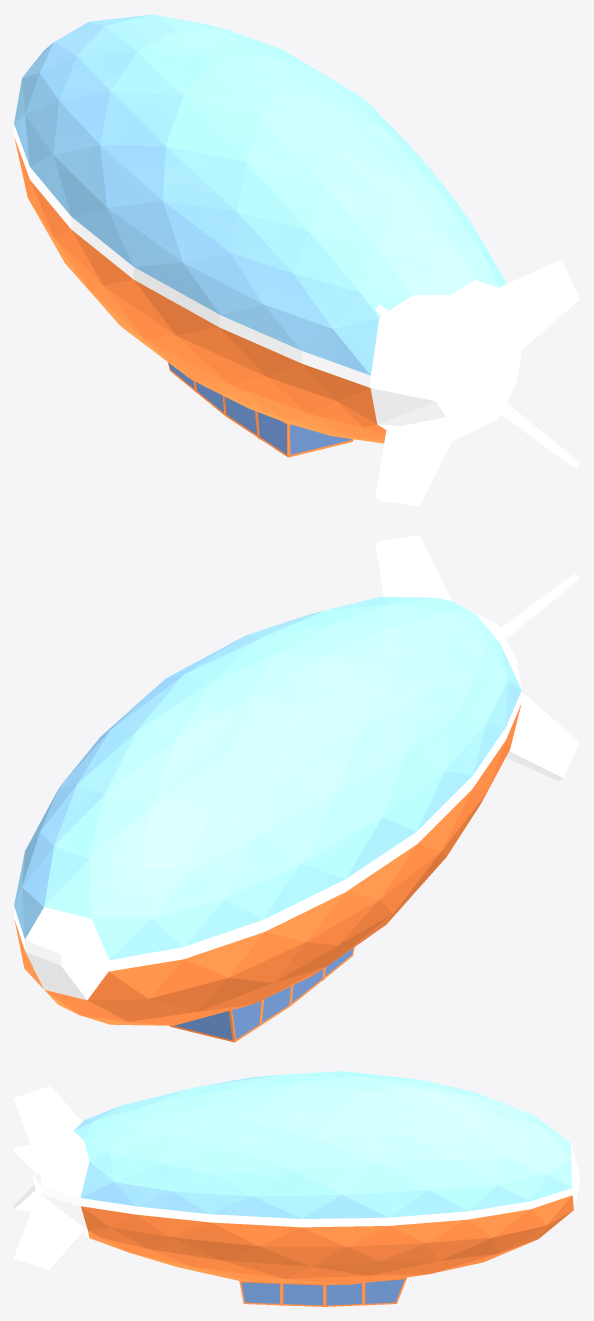
The model's file is transport_air.008.glb.
The picture shows the model from 3 angles, top to bottom: view 1: azimuth 30°, elevation 25°; view 2: azimuth 150°, elevation 25°; view 3: azimuth 270°, elevation 25°; orthographic projection. The views are drawn at different scales.
Visible parts, largest first — view 1: transport_air.008(Clone); view 2: transport_air.008(Clone); view 3: transport_air.008(Clone).
Part boxes in pixels (box(x1,y1,x2,y2)): transport_air.008(Clone): box(14, 14, 579, 506); transport_air.008(Clone): box(14, 535, 579, 1042); transport_air.008(Clone): box(14, 1071, 579, 1306).
Size of the model in its own units: 10.58 by 11.84 by 28.22.
Materials: 1 (1 with a texture image).
